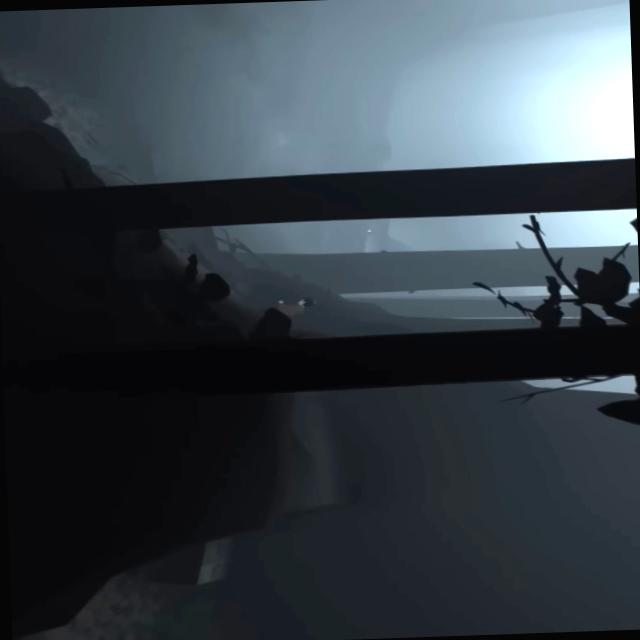boy: (250, 298, 314, 320)
